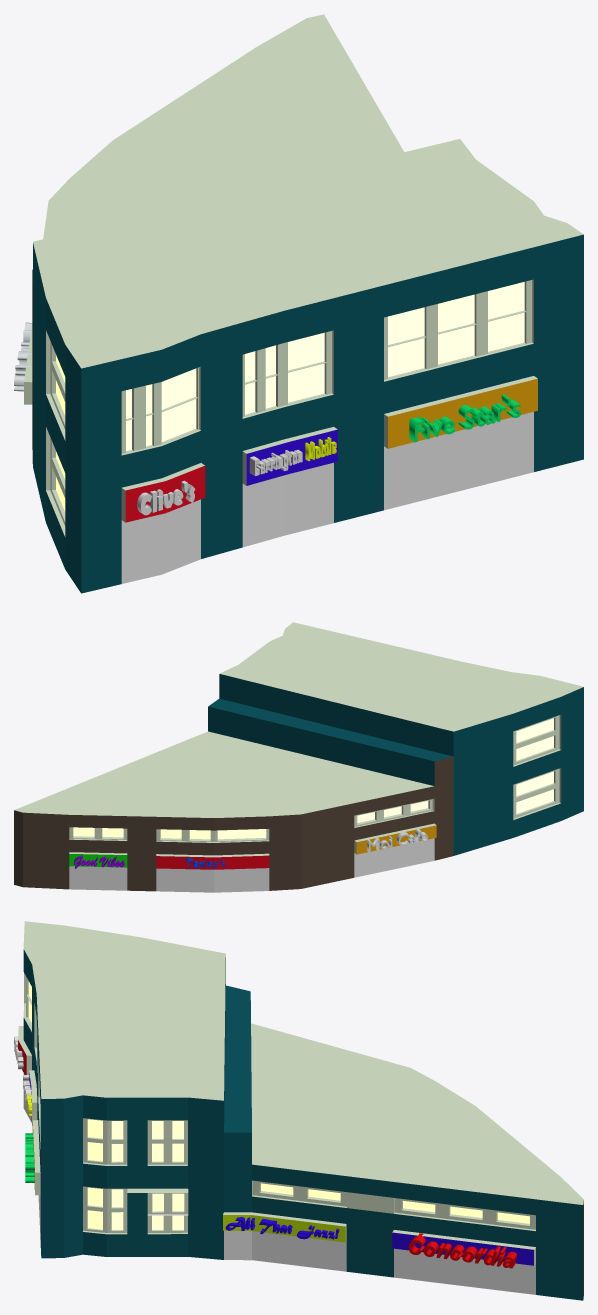
File: el_garcia_boulevard_shops_2.fbx
3 renders of one model, top to bottom at view 1: azimuth 30°, elevation 25°; view 2: azimuth 150°, elevation 25°; view 3: azimuth 270°, elevation 25°, orthographic. The views are drawn at different scales.
Parts seen in each view (by area): view 1: EGB_shops_2; view 2: EGB_shops_2; view 3: EGB_shops_2.
Part boxes in pixels (x1,y1,x2,y2): EGB_shops_2: (14, 14, 583, 593); EGB_shops_2: (14, 622, 583, 892); EGB_shops_2: (14, 921, 583, 1300).
Size of the model in its own units: 445 by 150 by 486.
